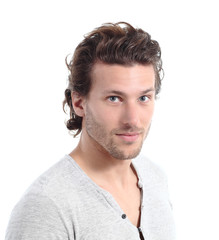young: (56, 21, 166, 166)
